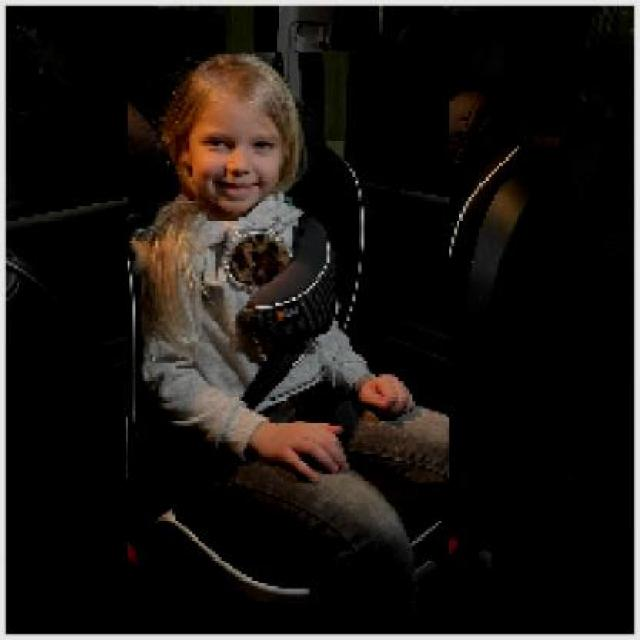child: (126, 52, 448, 634)
